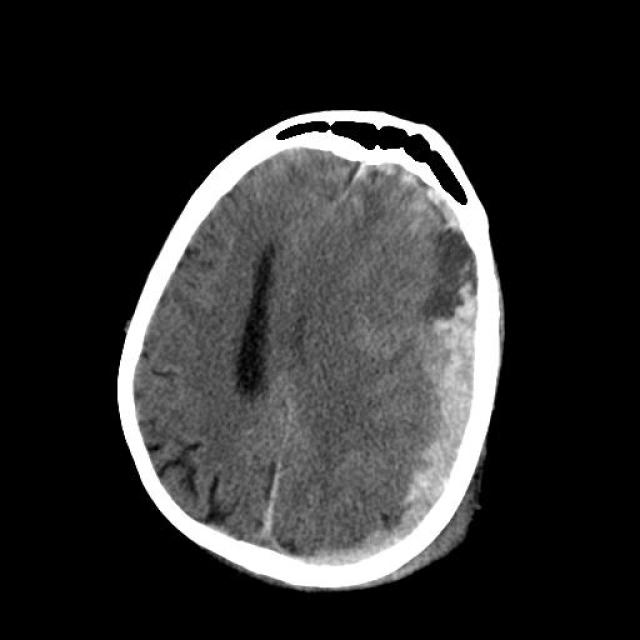Subdural: (291, 286, 509, 594), (367, 151, 475, 250)
